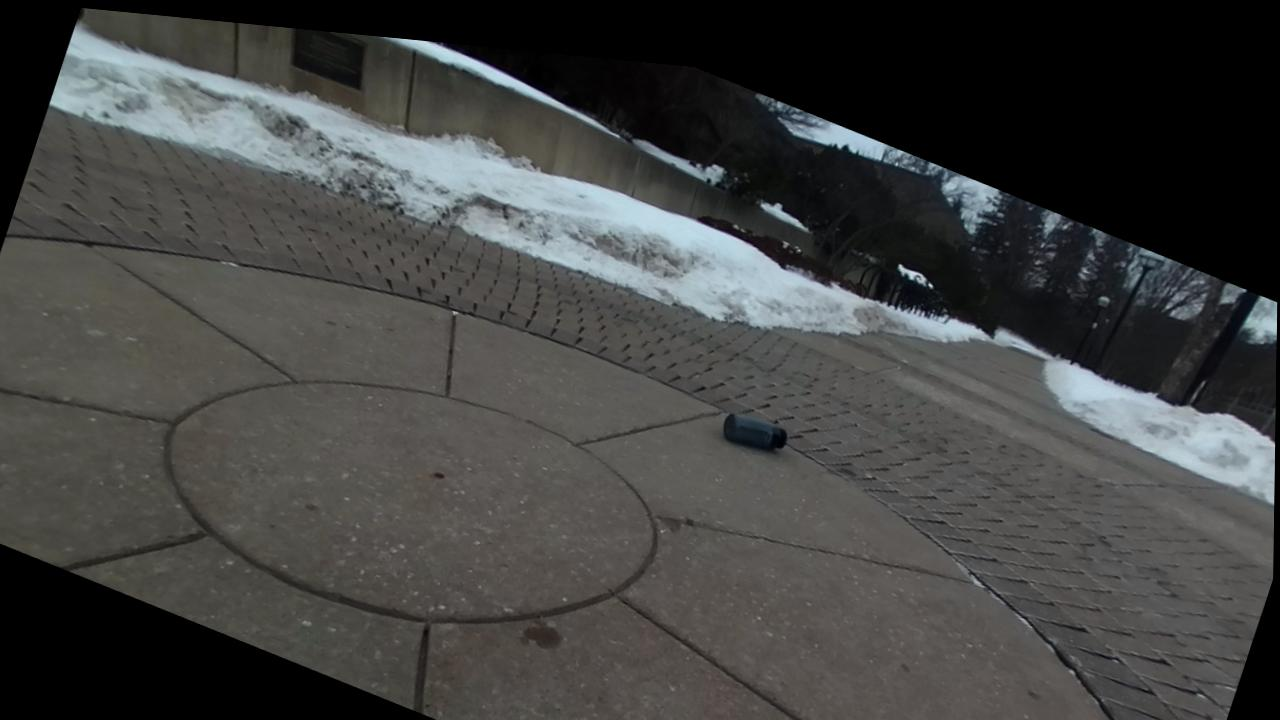bottle: (723, 415, 786, 450)
